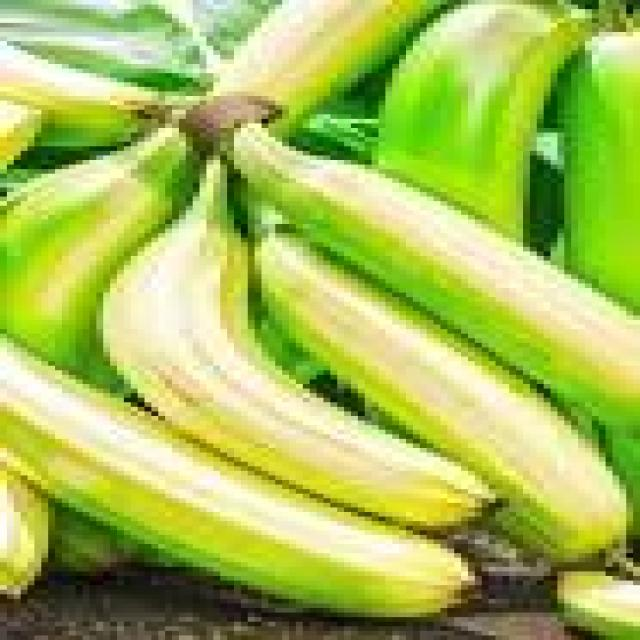banana: (104, 160, 488, 530), (0, 339, 474, 617), (234, 124, 639, 429), (255, 234, 626, 562), (379, 0, 591, 237), (0, 128, 192, 383), (214, 0, 440, 132), (0, 42, 165, 146), (0, 462, 48, 598), (49, 508, 144, 575), (558, 572, 639, 639), (0, 101, 41, 169)
